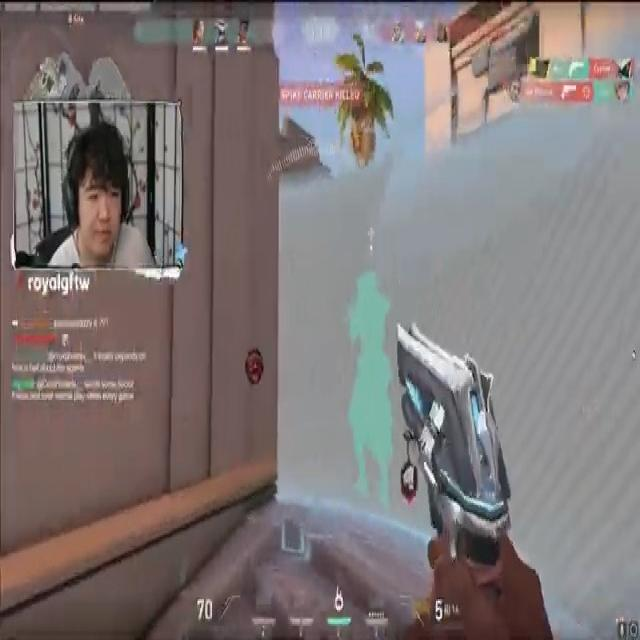ally behind wall: (346, 273, 404, 507)
